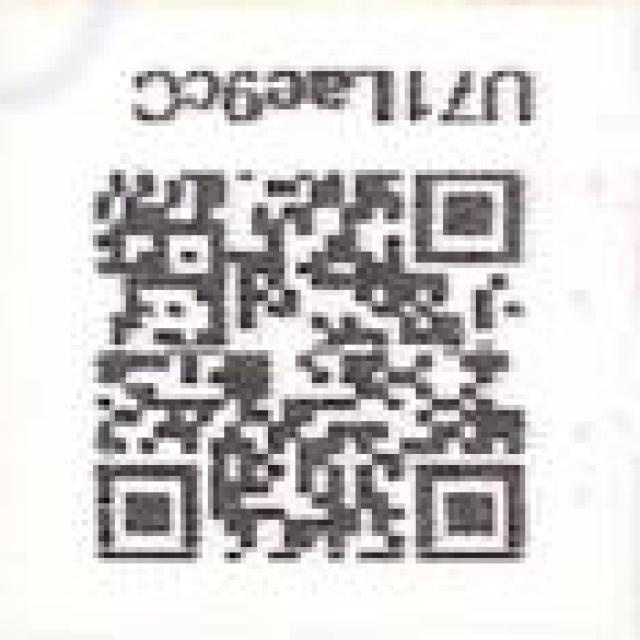qr-code: (72, 157, 552, 577)
